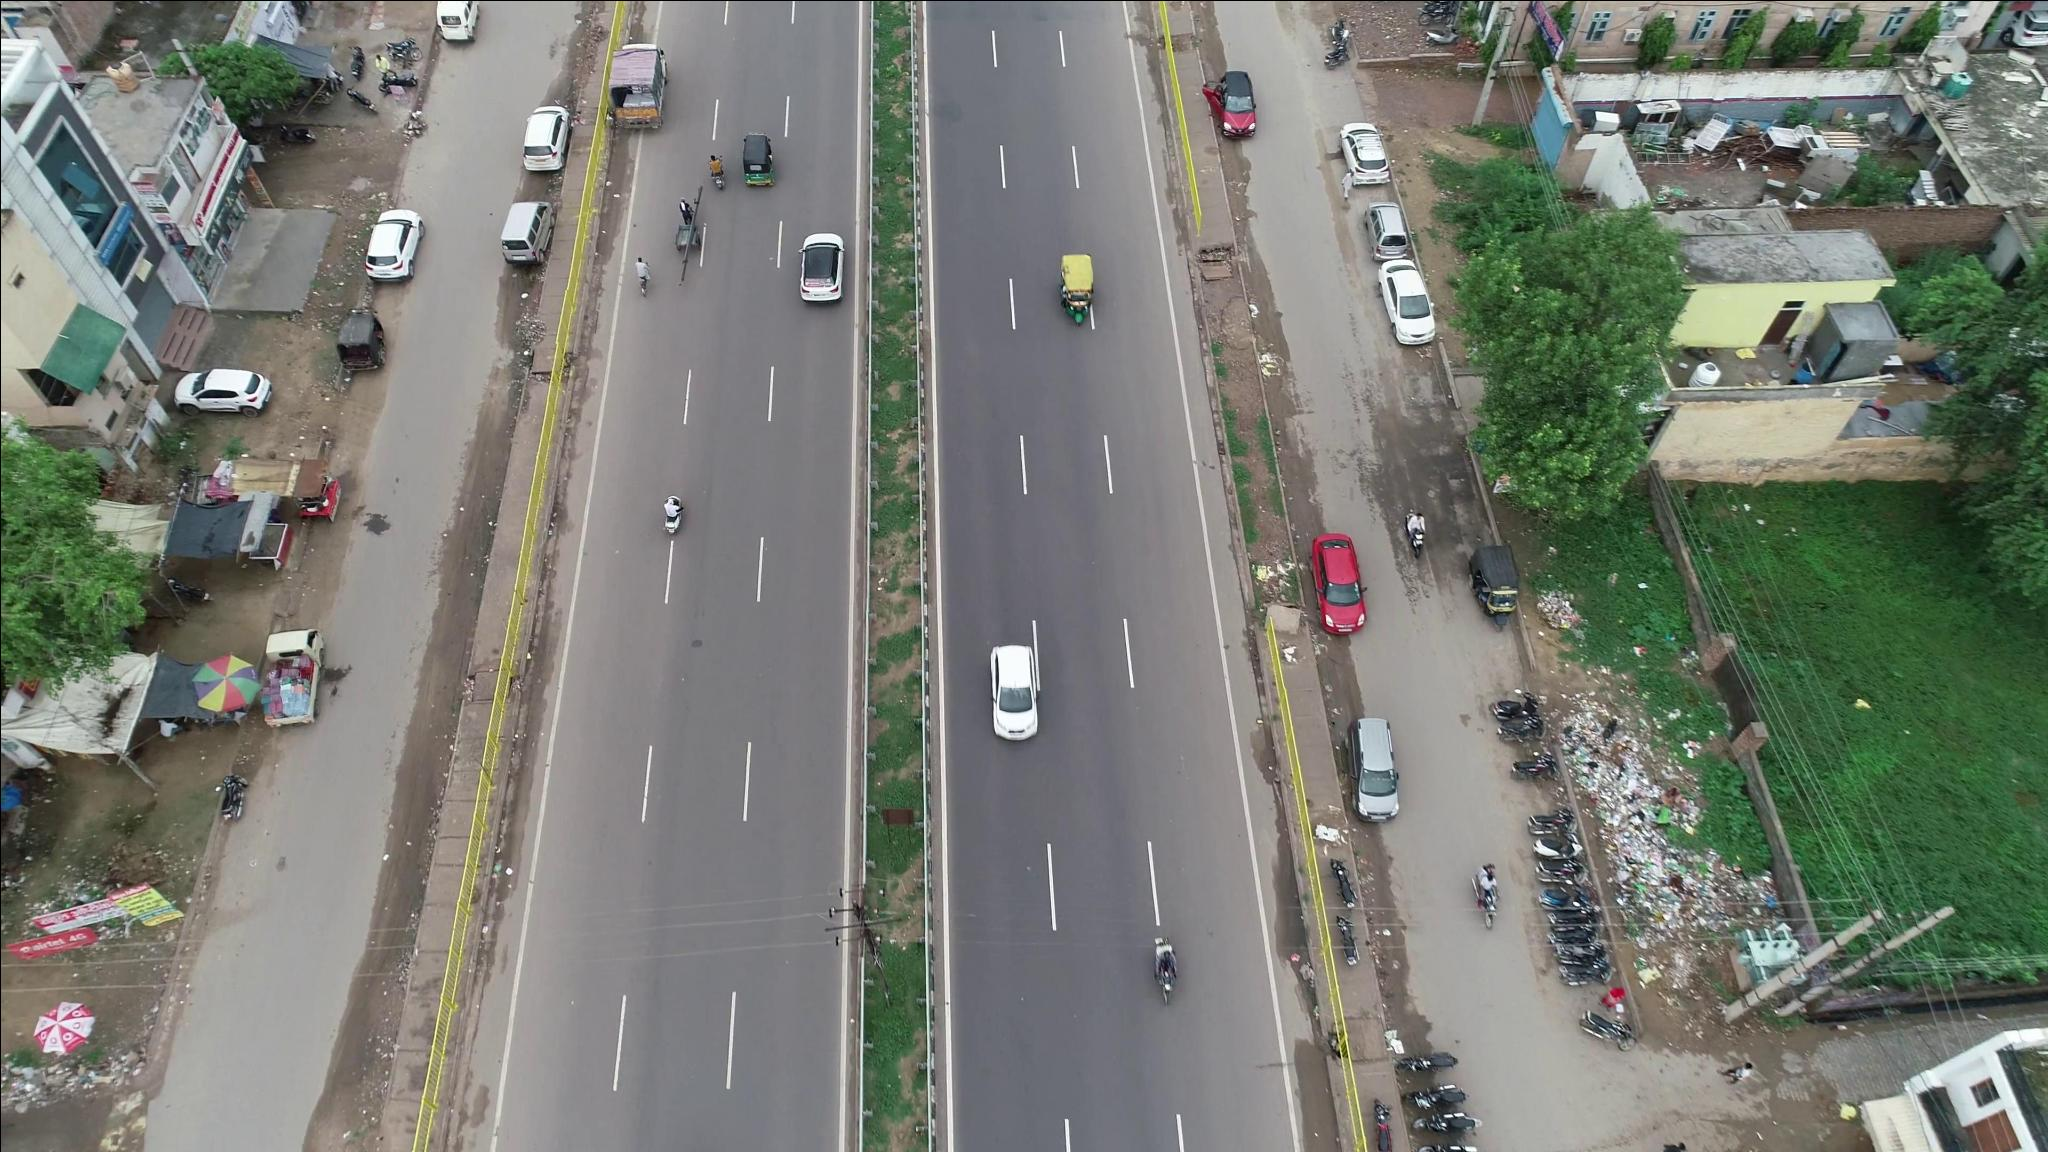Road_side_garbage: (1573, 723, 1717, 940)
